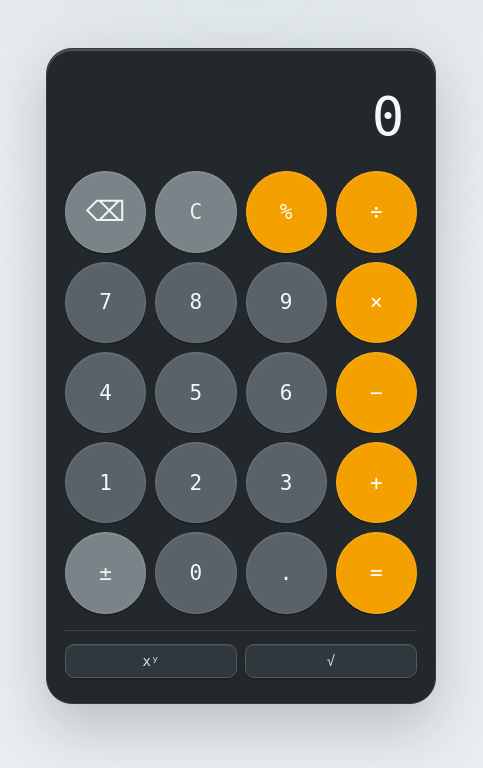
Test case: traditional calculator › replaces a pending operator and repeats the last operation on equals
Click the button "5" at (196, 393), box top-left (155, 352), bottom-right (237, 433)
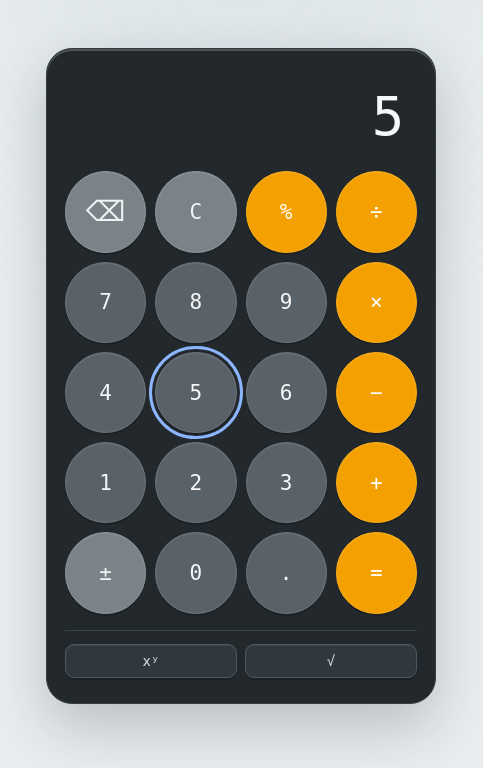
Click the button named "Add" at (376, 483), box top-left (336, 442), bottom-right (417, 523)
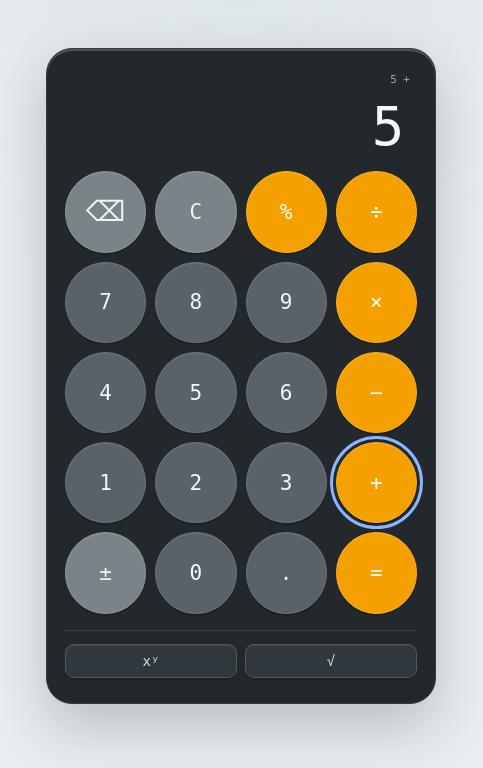
Click the button named "Multiply" at (376, 302), box top-left (336, 262), bottom-right (417, 343)
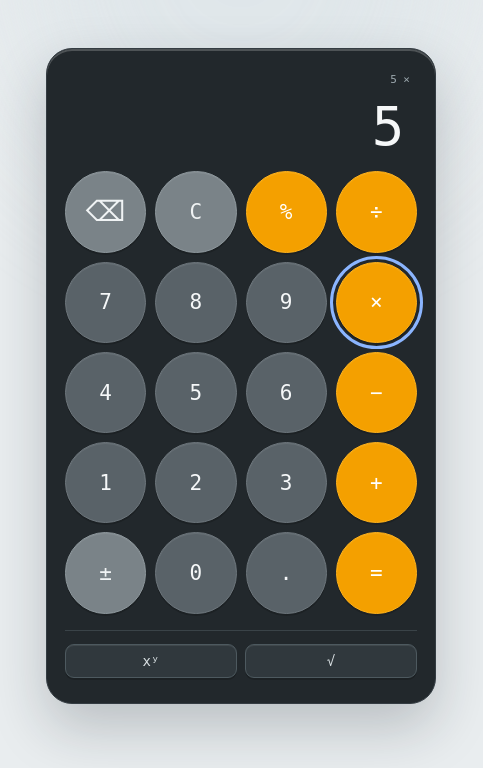
Click the button "3" at (286, 483), box top-left (246, 442), bottom-right (327, 523)
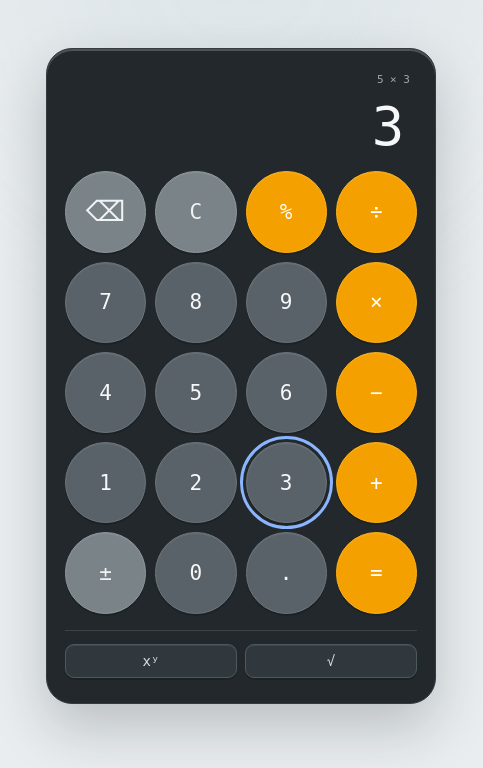
Click the button named "Equals" at (376, 573), box top-left (336, 532), bottom-right (417, 614)
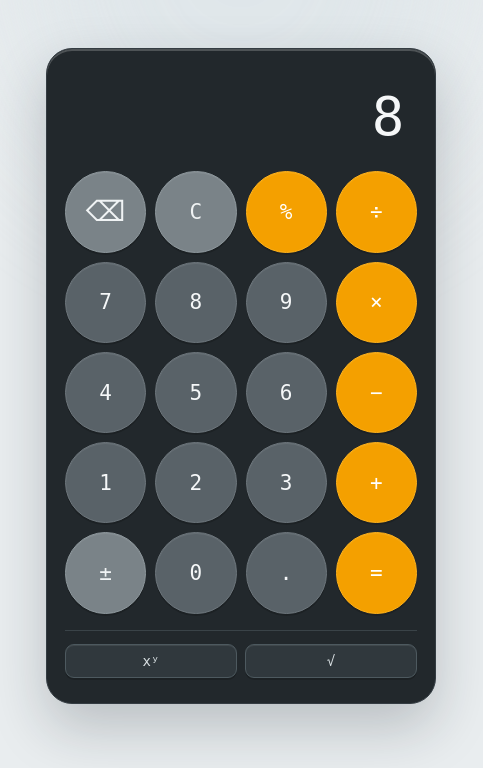
Click the button named "Equals" at (376, 573), box top-left (336, 532), bottom-right (417, 614)
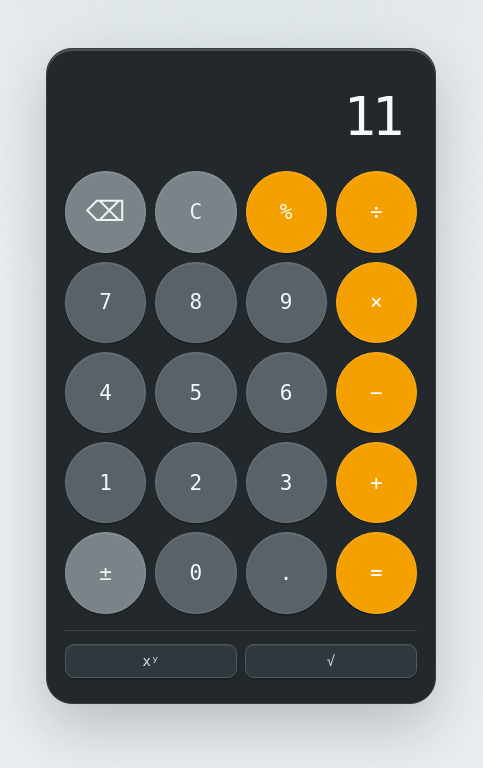
Now the text named "Calculator display" reads "11", box top-left (344, 85), bottom-right (400, 148)
